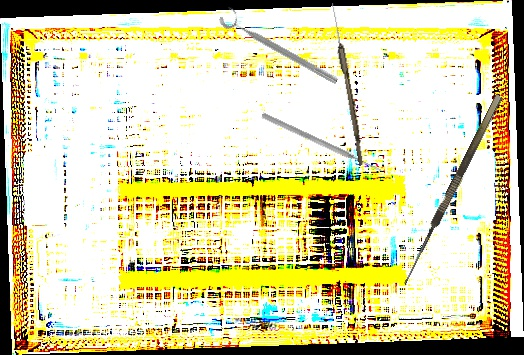Fixation Ring: (217, 4, 344, 88)
Hook Surgical: (400, 94, 513, 291)
Pusher: (260, 111, 384, 175)
Surgical Spoon: (327, 2, 368, 166)
